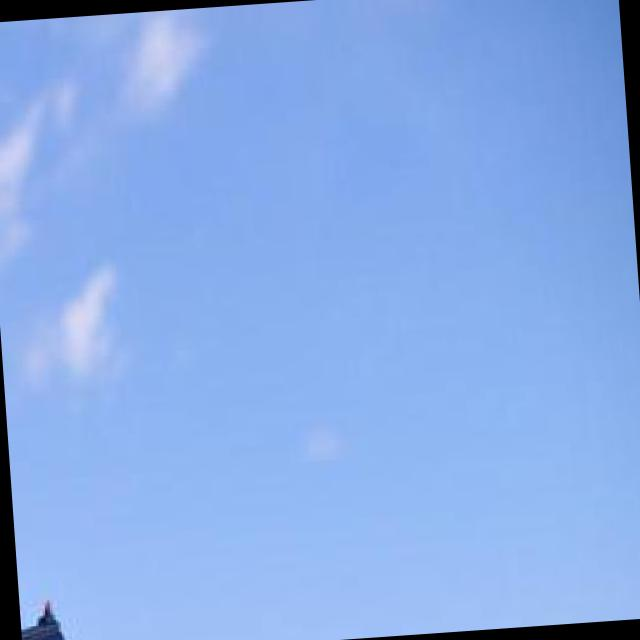Guns: (18, 587, 83, 640)
